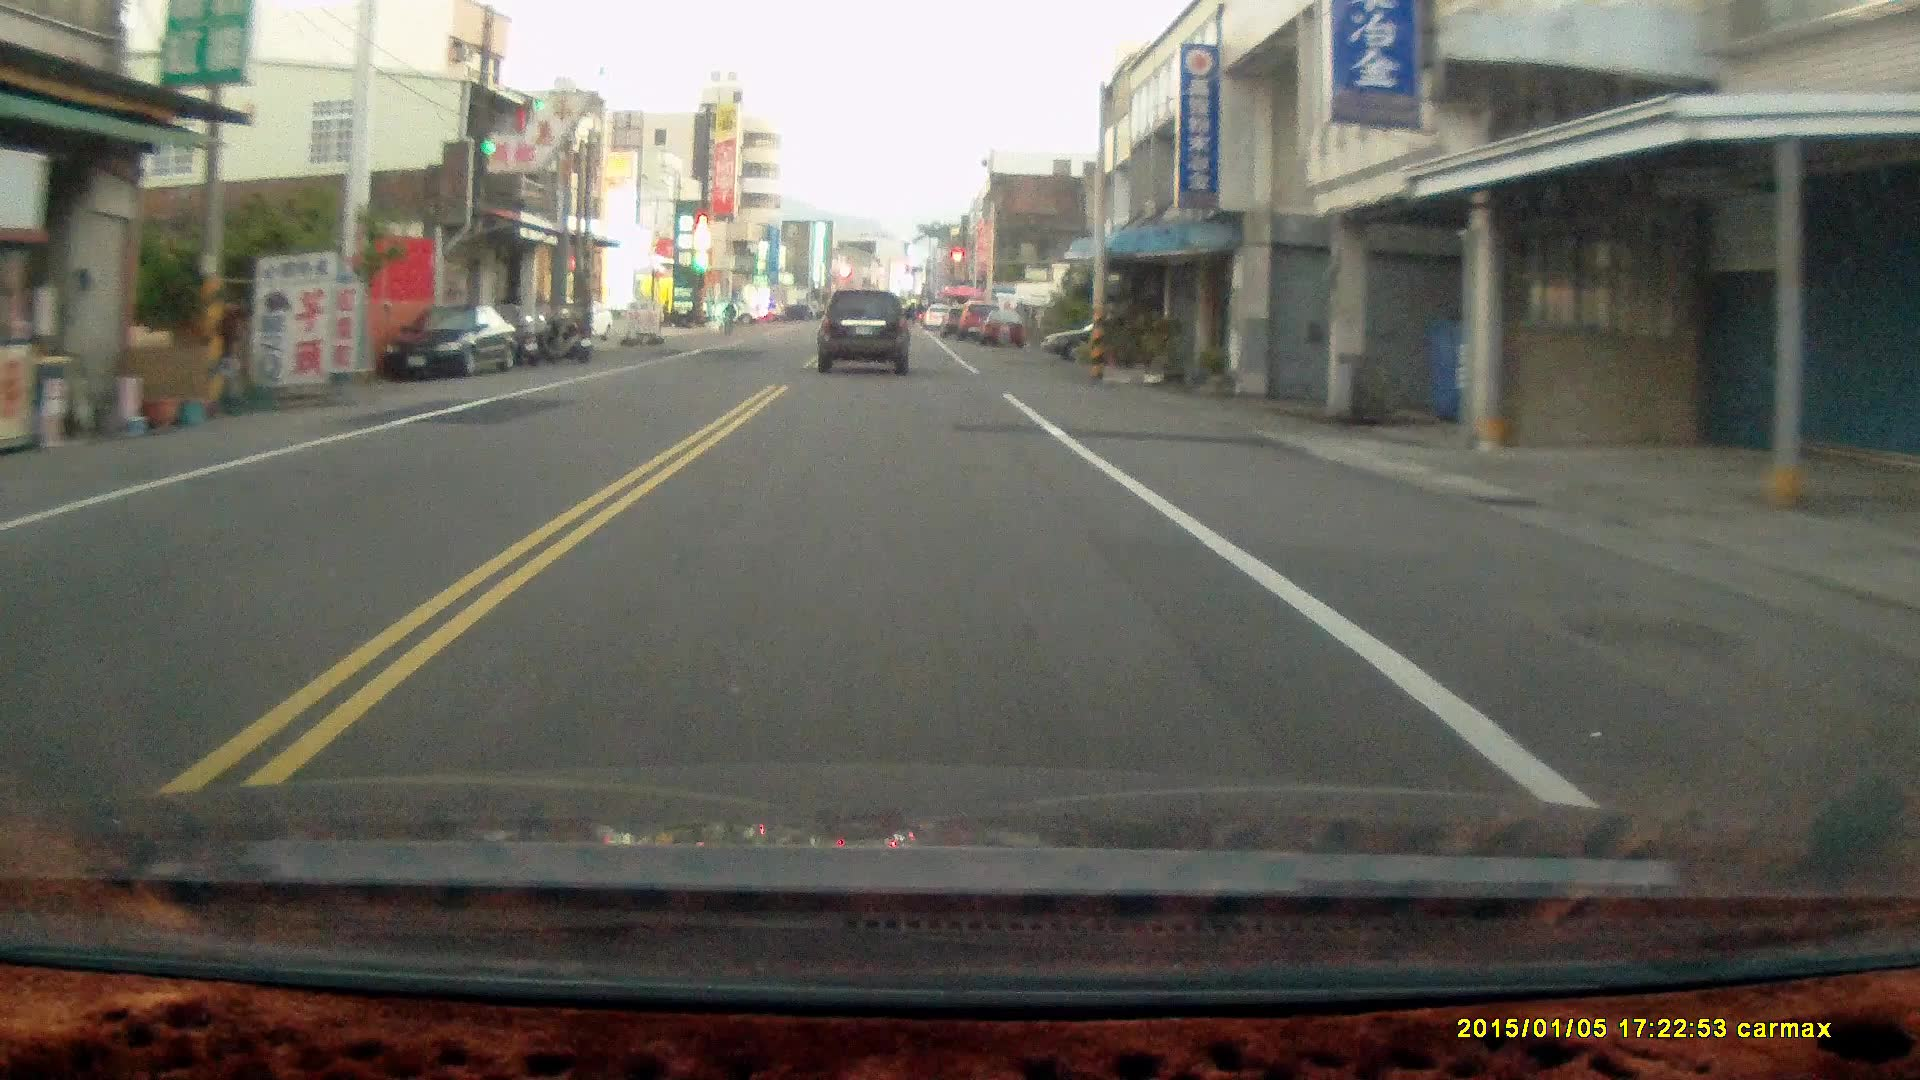pedestrian: (209, 293, 246, 406)
rider: (717, 295, 738, 331)
vehicle: (383, 304, 522, 386), (820, 291, 915, 377)
